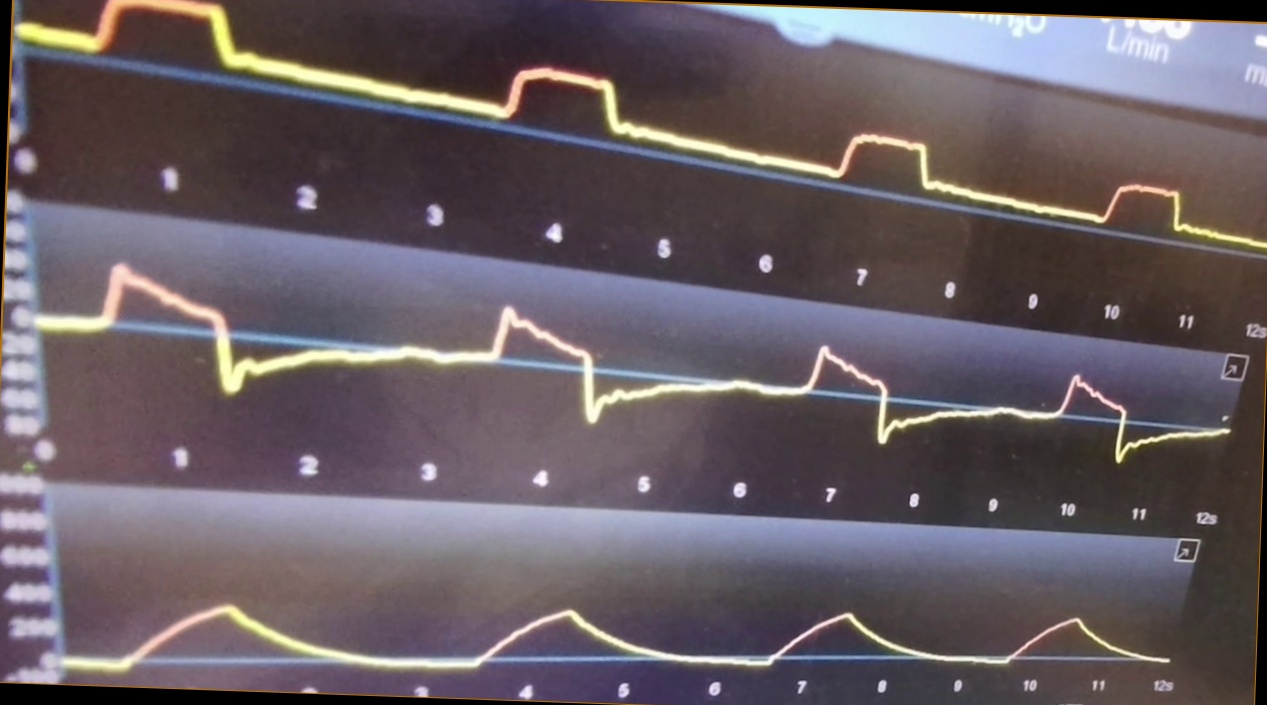Accumulation Flow: (45, 269, 1229, 462)
Volume: (66, 589, 1174, 677)
